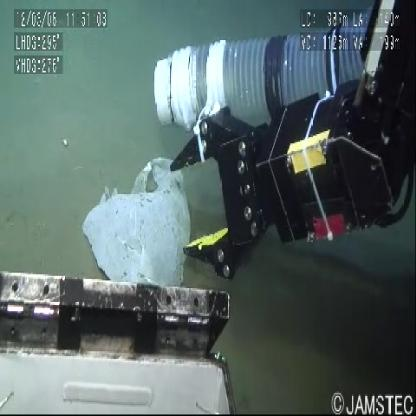Rov: (148, 2, 415, 288), (1, 251, 237, 416)
Rác: (73, 132, 203, 289)
